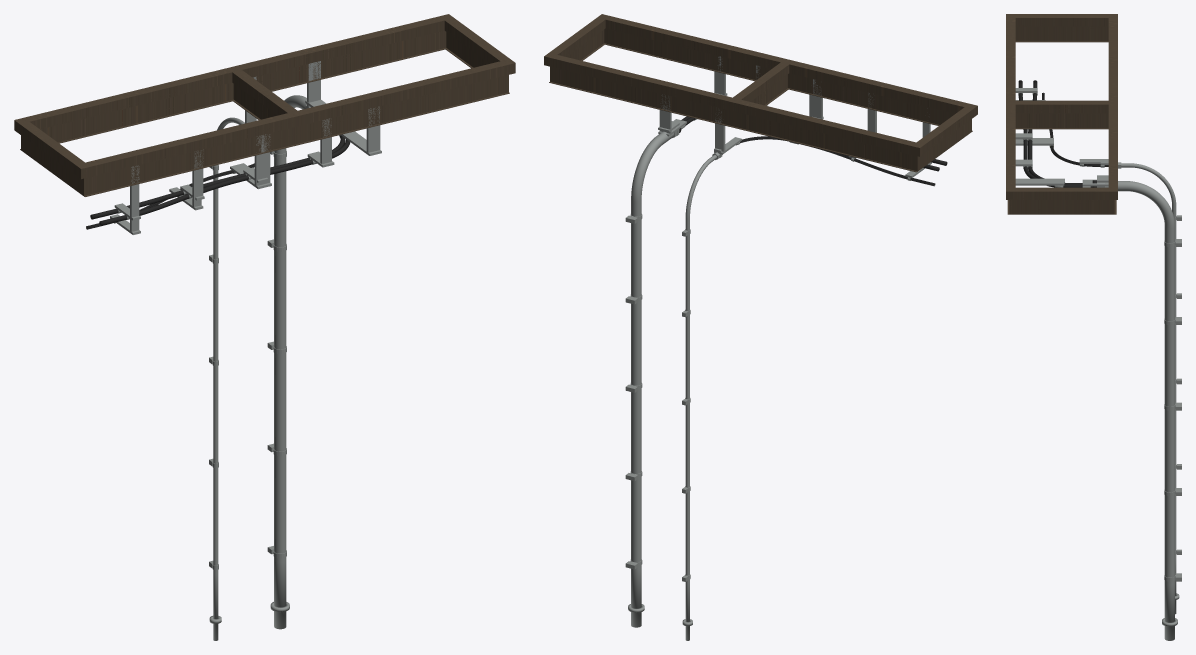
File: supported-transition-aligned.glb
The picture shows the model from 3 angles, left to right: view 1: azimuth 30°, elevation 25°; view 2: azimuth 150°, elevation 25°; view 3: azimuth 270°, elevation 25°; orthographic projection. The views are drawn at different scales.
Parts seen in each view (by area): view 1: steel_frame, steel_pipe, steel_clamps, jacket; view 2: steel_frame, steel_pipe, steel_clamps, jacket; view 3: steel_frame, steel_pipe, steel_clamps, jacket.
Part boxes in pixels (left/top/right/bottom): steel_frame: left=14, top=14, right=515, bottom=196; steel_pipe: left=209, top=95, right=306, bottom=640; steel_clamps: left=110, top=61, right=381, bottom=570; jacket: left=86, top=135, right=350, bottom=229; steel_frame: left=544, top=14, right=977, bottom=172; steel_pipe: left=628, top=131, right=716, bottom=640; steel_clamps: left=625, top=56, right=931, bottom=581; jacket: left=679, top=116, right=947, bottom=186; steel_frame: left=1006, top=14, right=1117, bottom=214; steel_pipe: left=1105, top=163, right=1179, bottom=640; steel_clamps: left=1015, top=88, right=1181, bottom=581; jacket: left=1018, top=80, right=1108, bottom=187.
Bounding box in the file's own units: 2.46 × 3.25 × 1.03.
6 materials, 1 textured.
